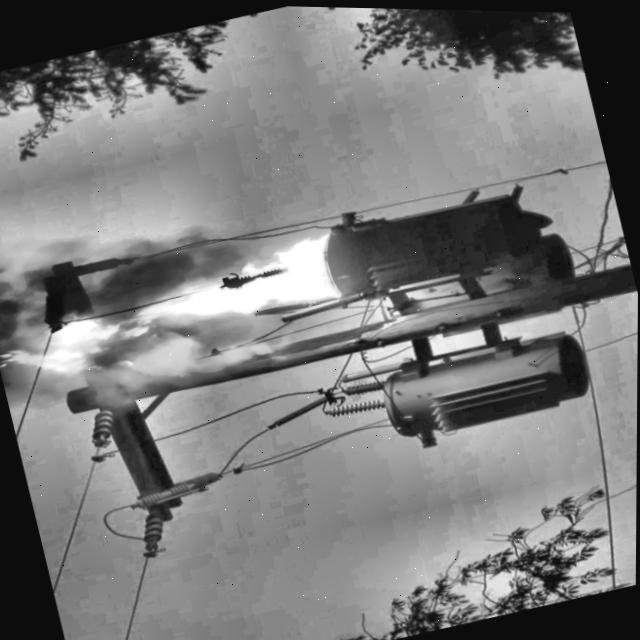Fire: (0, 206, 378, 406)
